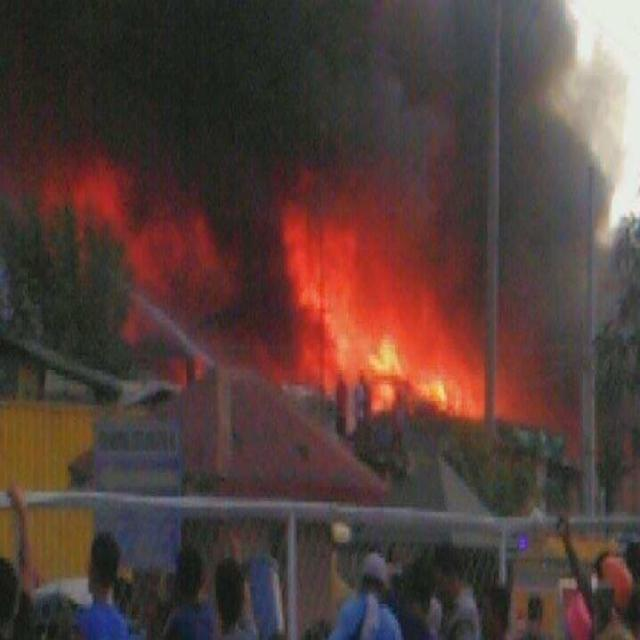Fire: (288, 216, 482, 429), (96, 166, 240, 322)
Smoke: (0, 3, 482, 232), (501, 0, 592, 339)
